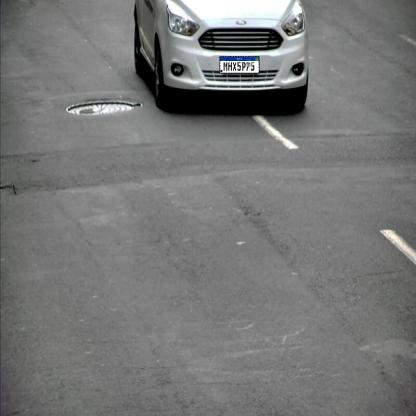PlacaM: (219, 56, 260, 74)
